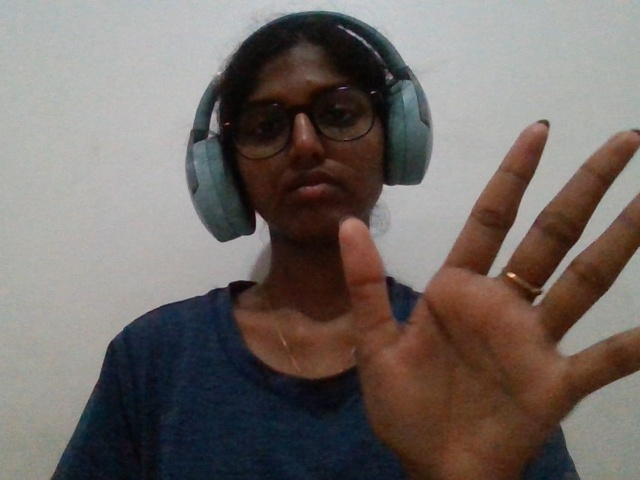Bye: (301, 106, 640, 477)
